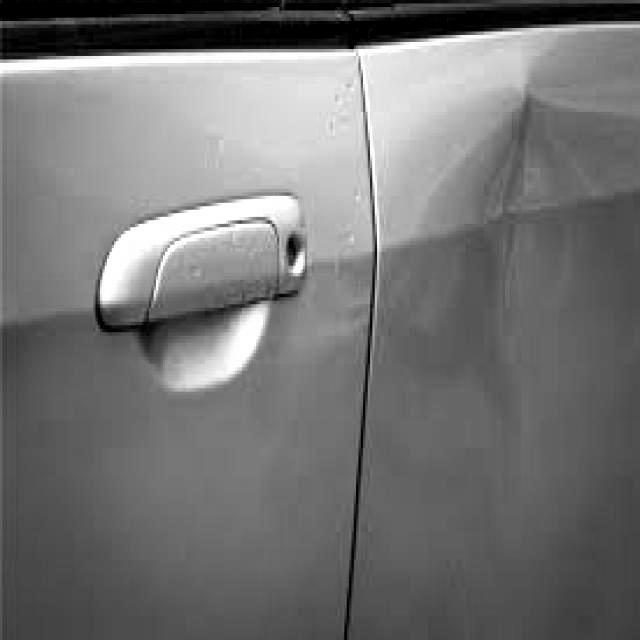doorouter-dent: (348, 50, 625, 525)
